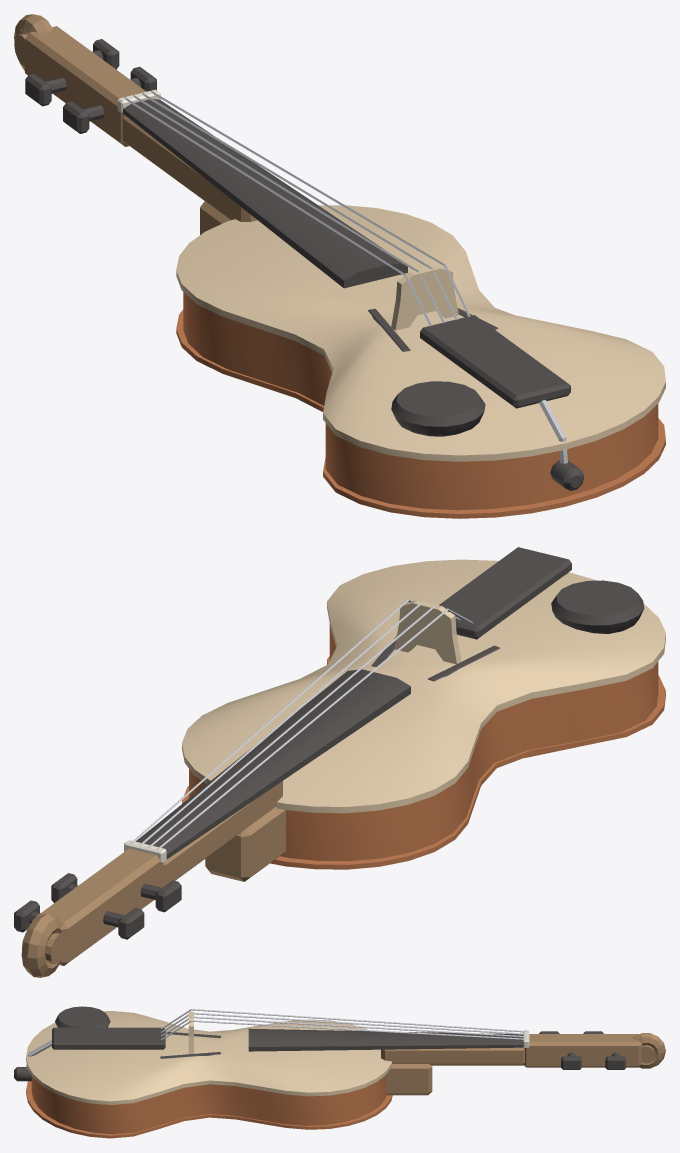
File: violin-v2.glb
The picture shows the model from 3 angles, top to bottom: view 1: azimuth 30°, elevation 25°; view 2: azimuth 150°, elevation 25°; view 3: azimuth 270°, elevation 25°; orthographic projection. The views are drawn at different scales.
Visible parts, largest first — view 1: violin; view 2: violin; view 3: violin.
Boxes of the visible parts, box(x1,y1,x2,y2) form: violin: box(14, 14, 665, 518); violin: box(14, 547, 665, 977); violin: box(14, 1006, 665, 1138).
Size of the model in its own units: 0.2078 by 0.0948 by 0.6321.
